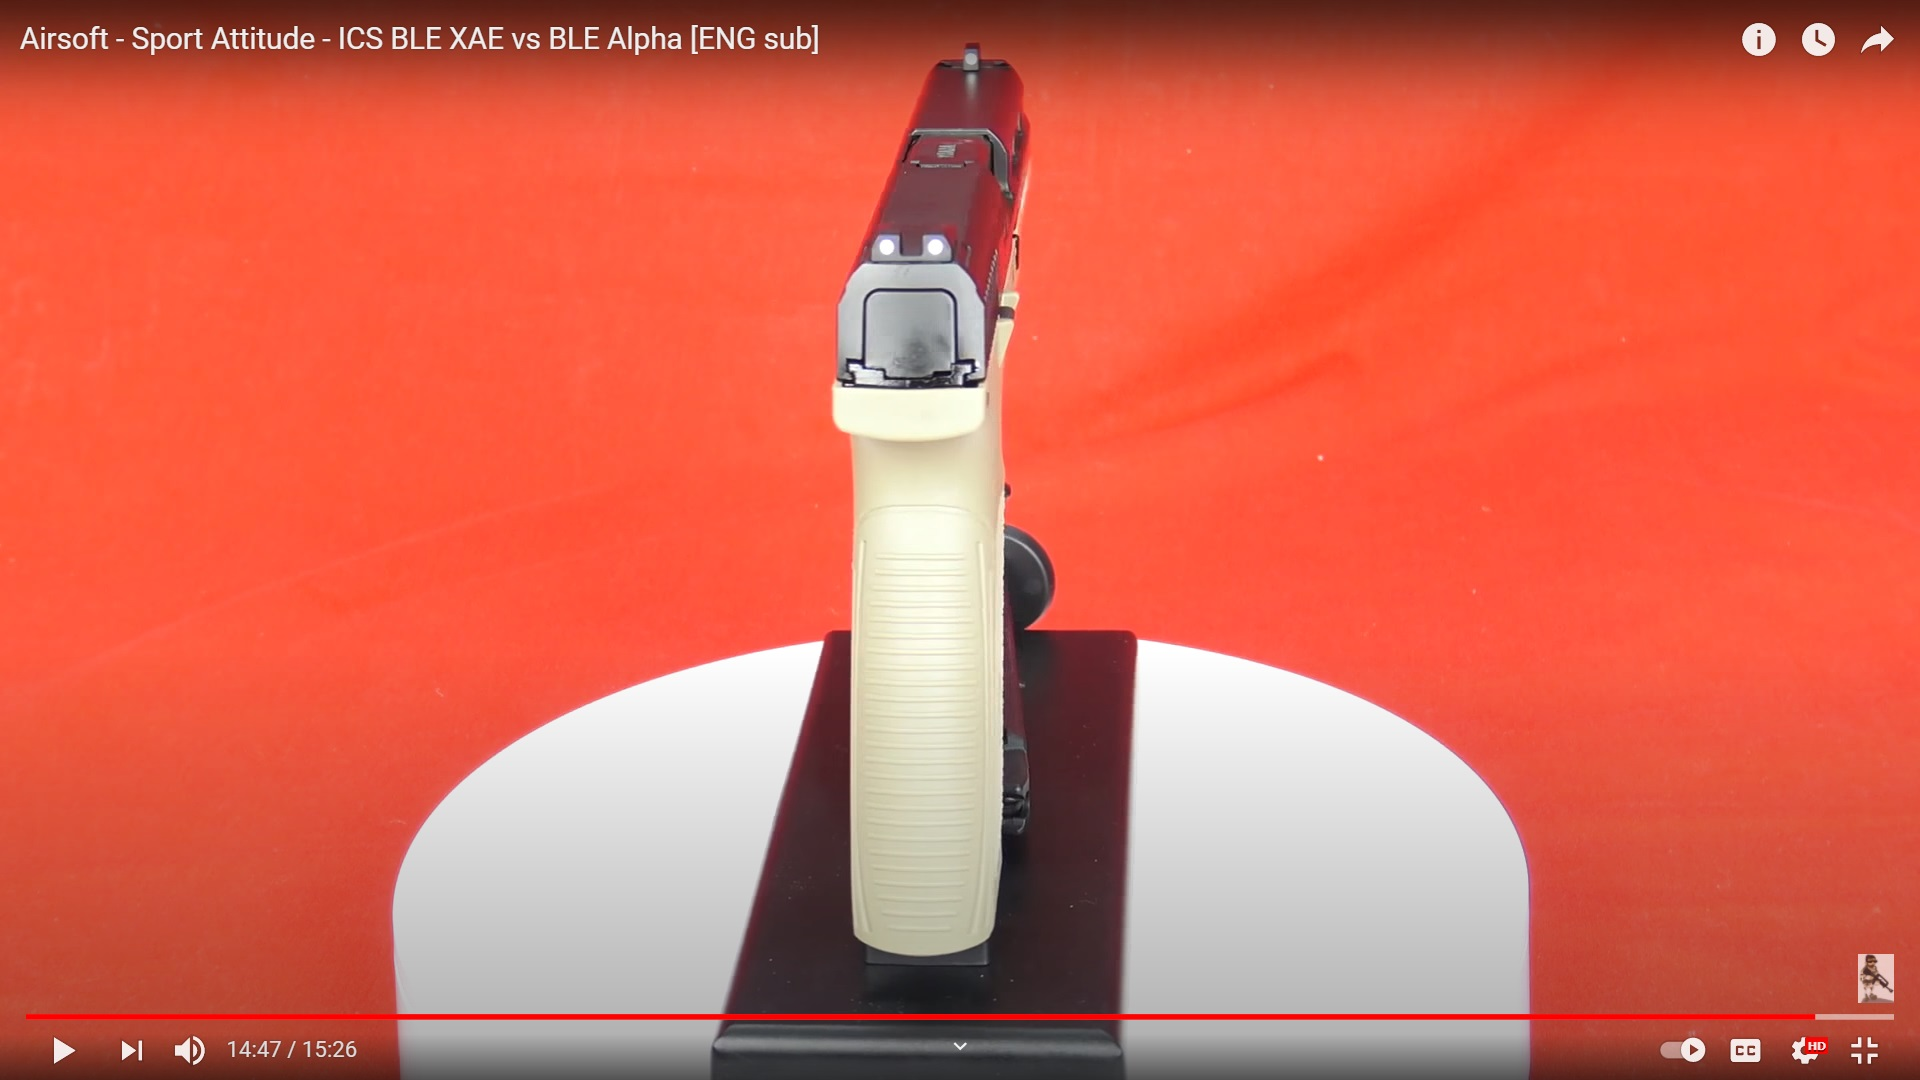asg_ics_ble_xae: (828, 51, 1019, 963)
